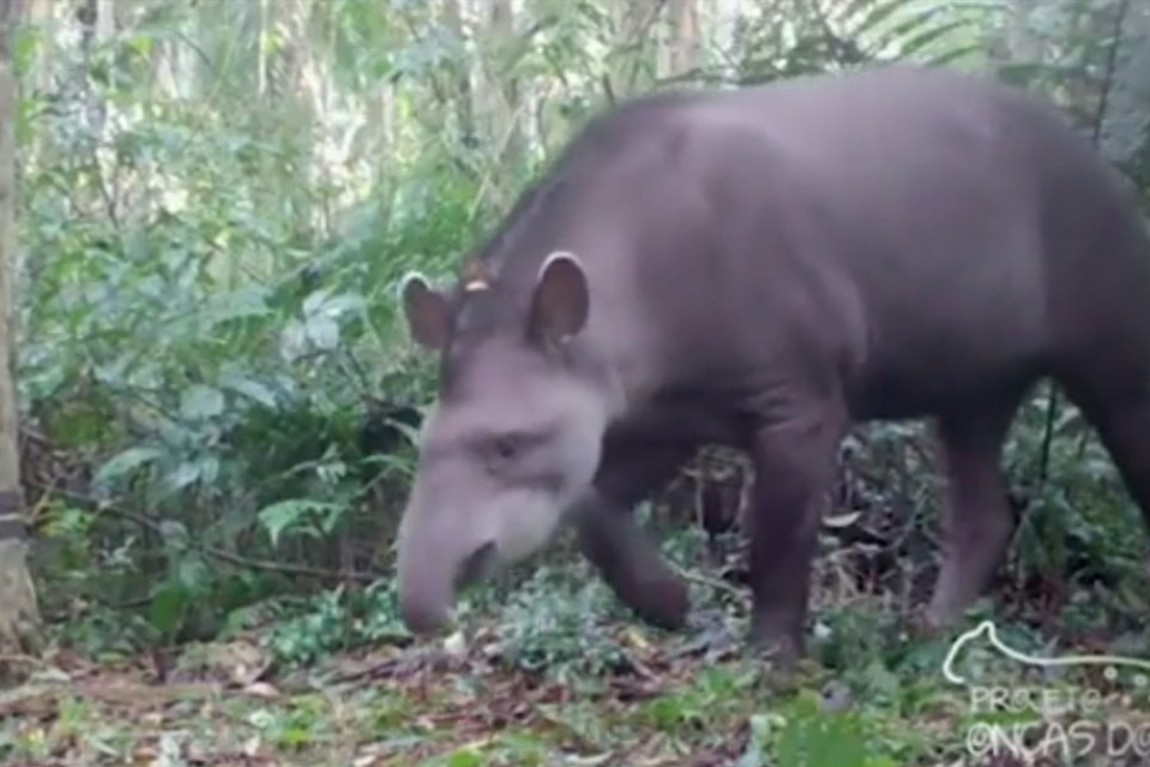Anta: (370, 50, 1131, 678)
